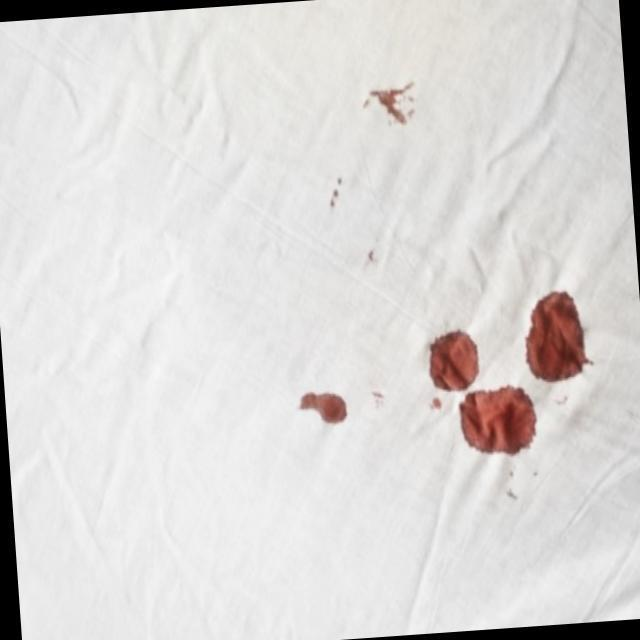blood: (525, 291, 593, 383), (462, 393, 536, 453), (429, 333, 479, 391), (298, 392, 348, 425)
